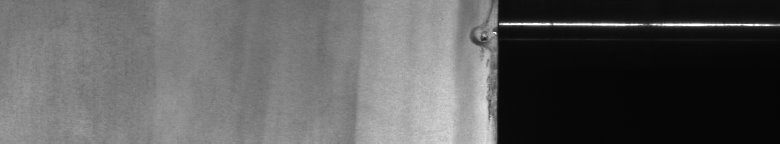hb: (458, 15, 488, 104)
